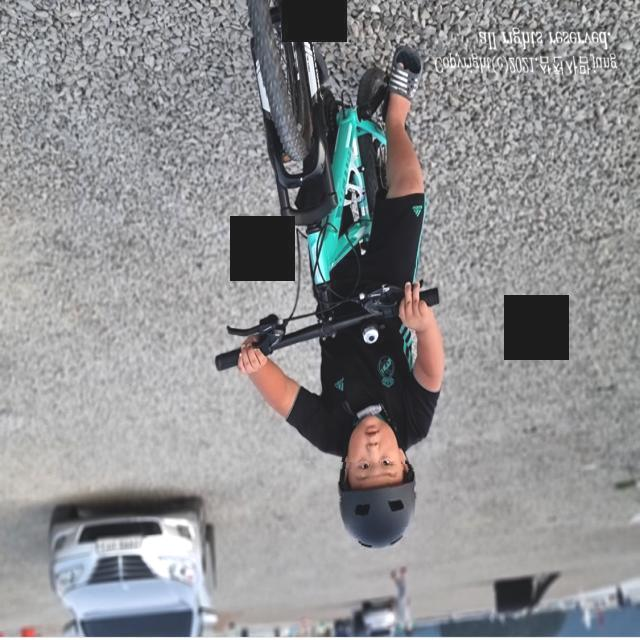helmet: (297, 462, 454, 563)
